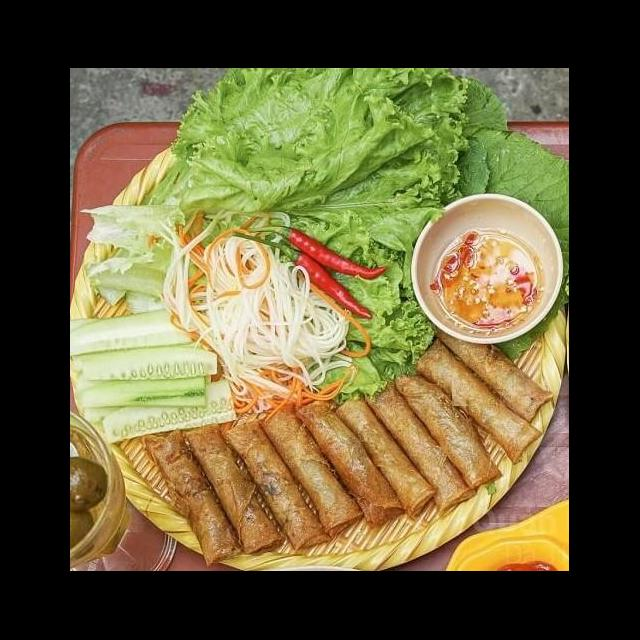cha gio: (383, 318, 560, 498), (334, 382, 476, 524), (290, 396, 414, 530), (256, 398, 372, 540), (138, 424, 250, 570), (224, 416, 338, 554), (178, 418, 284, 562)
dua chua: (142, 206, 376, 426)
